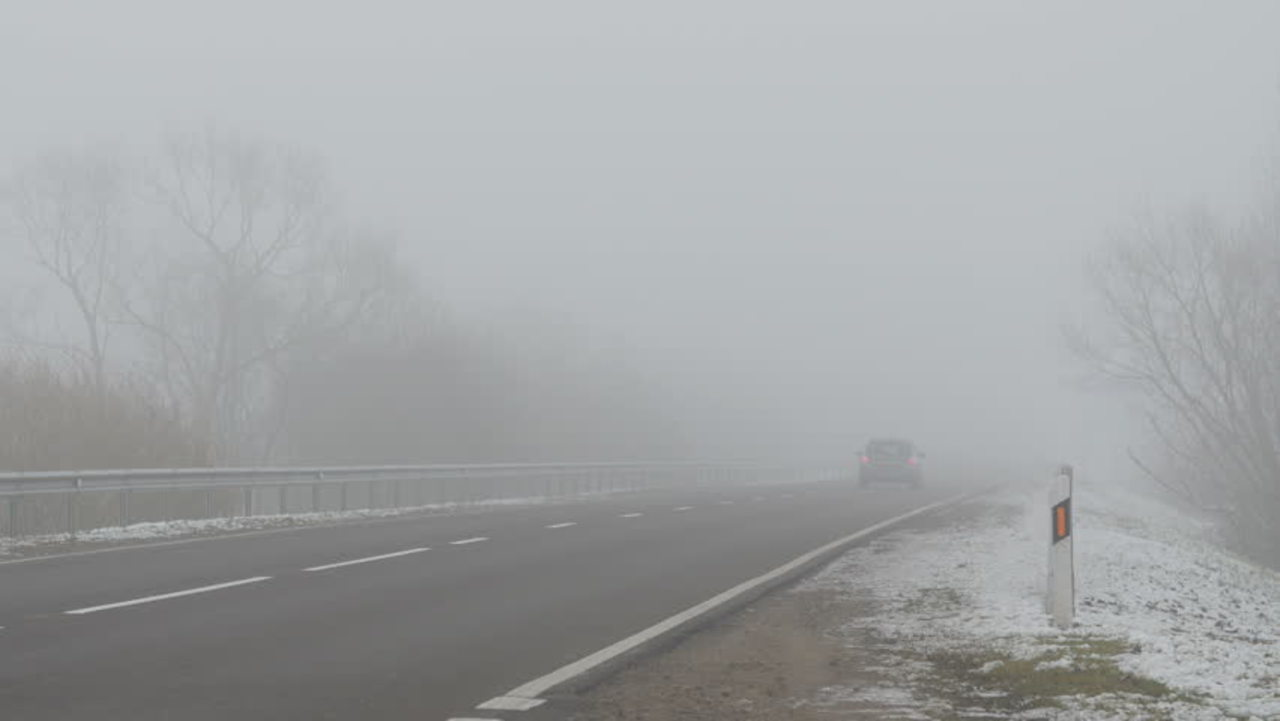car: (855, 437, 926, 488)
